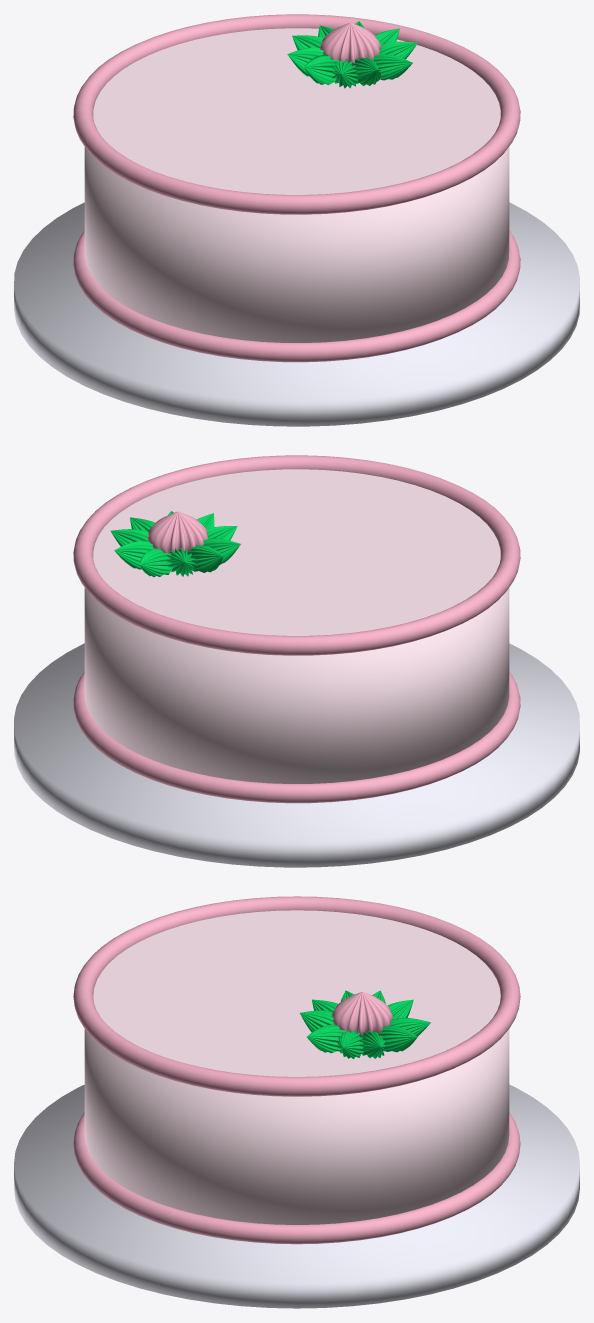
The model's file is round_strawberry_style3.glb.
3 renders of one model, top to bottom at view 1: azimuth 30°, elevation 25°; view 2: azimuth 150°, elevation 25°; view 3: azimuth 270°, elevation 25°, orthographic.
Visible parts, largest first — view 1: CakeBase, IcingStand, CakeTopCircle, IcingRing, IcingRing.001, leaf, design1; view 2: CakeBase, IcingStand, CakeTopCircle, IcingRing, IcingRing.001, leaf, design1; view 3: CakeBase, IcingStand, CakeTopCircle, IcingRing, IcingRing.001, leaf, design1.
Boxes of the visible parts, x1,y1,x2,y2 form: CakeBase: (84,147,509,342); IcingStand: (14,202,579,426); CakeTopCircle: (93,28,500,194); IcingRing: (73,14,520,214); IcingRing.001: (73,230,520,362); leaf: (287,21,417,88); design1: (320,22,381,66); CakeBase: (84,588,509,783); IcingStand: (14,643,579,867); CakeTopCircle: (93,469,500,635); IcingRing: (73,455,520,655); IcingRing.001: (73,671,520,803); leaf: (110,511,240,577); design1: (148,511,208,553); CakeBase: (84,1029,509,1224); IcingStand: (14,1084,579,1308); CakeTopCircle: (93,910,500,1076); IcingRing: (73,896,520,1096); IcingRing.001: (73,1112,520,1244); leaf: (300,990,430,1058); design1: (331,991,392,1035).
Bounding box in the file's own units: 4 × 1.87 × 4.
